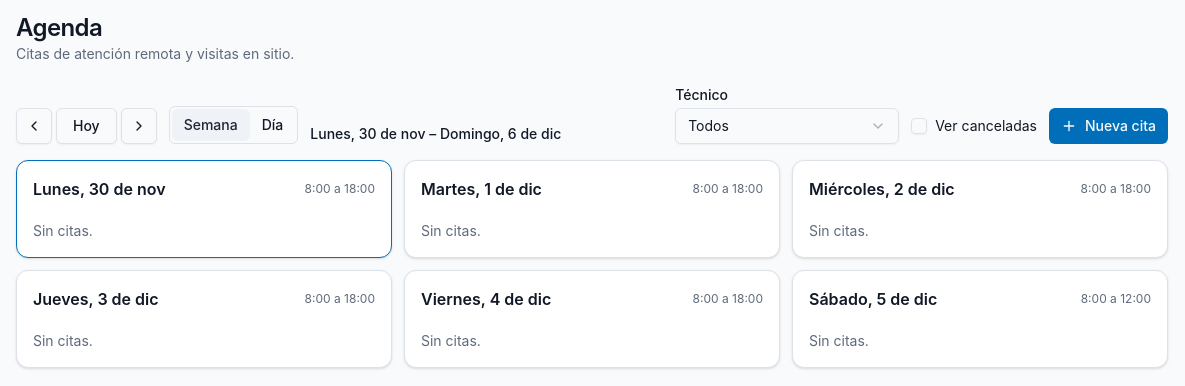
Test case: AgendaPage › marks holidays and moves to the next week
The width and height of the screenshot is (1185, 386).
Click the button named "Siguiente". click: (139, 126)
box: [121,108,157,144]
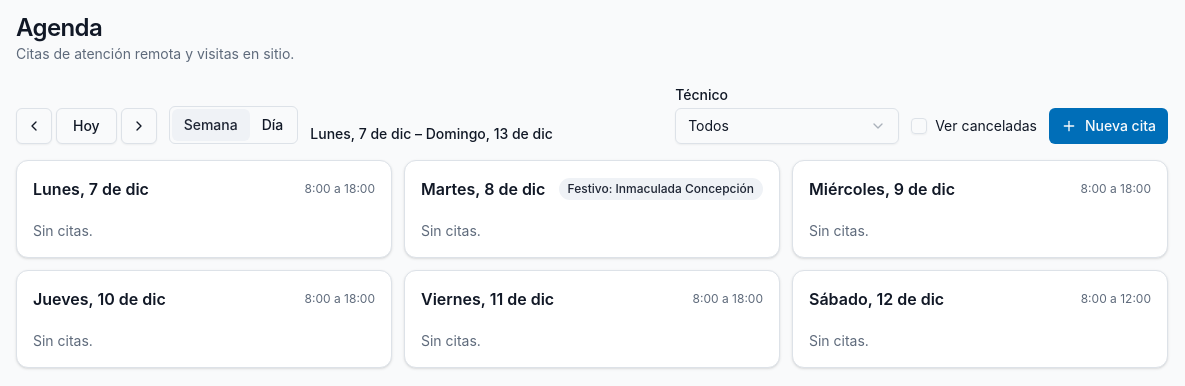
Now the text "Festivo: Inmaculada Concepción" is shown, box [558,178,763,200]
